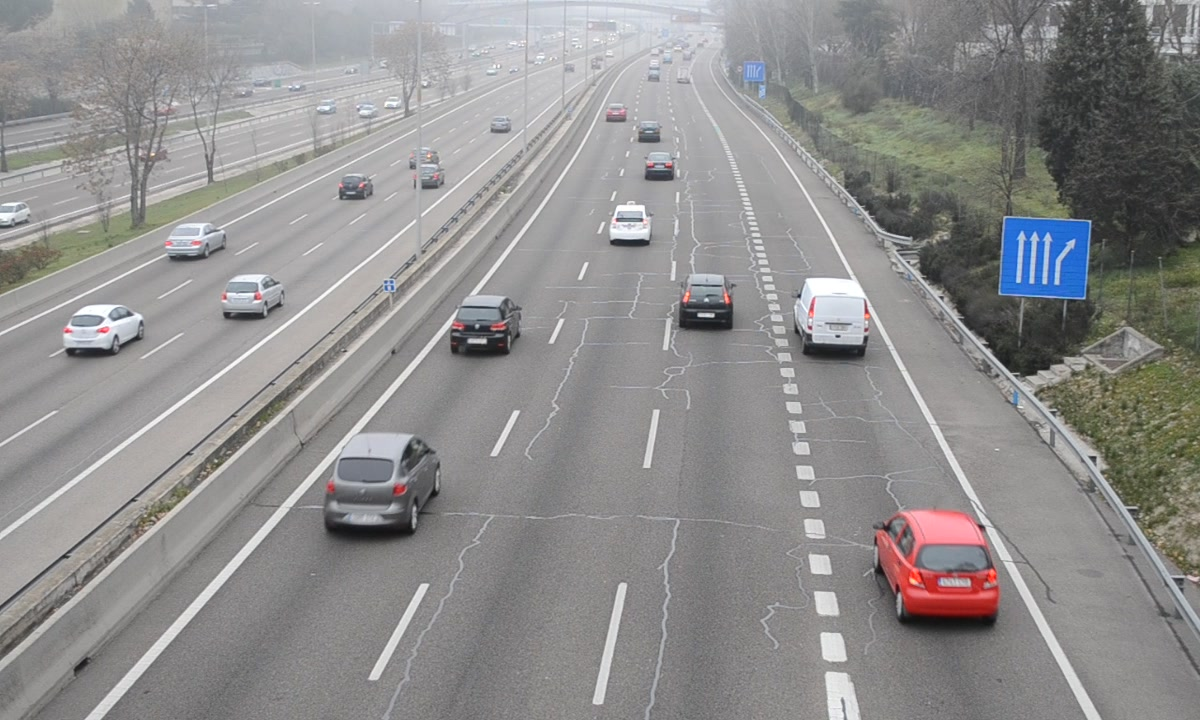car: (878, 508, 1001, 621), (325, 432, 442, 533), (450, 294, 520, 354), (679, 271, 729, 327), (608, 203, 653, 245), (643, 150, 676, 181), (638, 120, 662, 146)
van: (797, 277, 870, 356)
